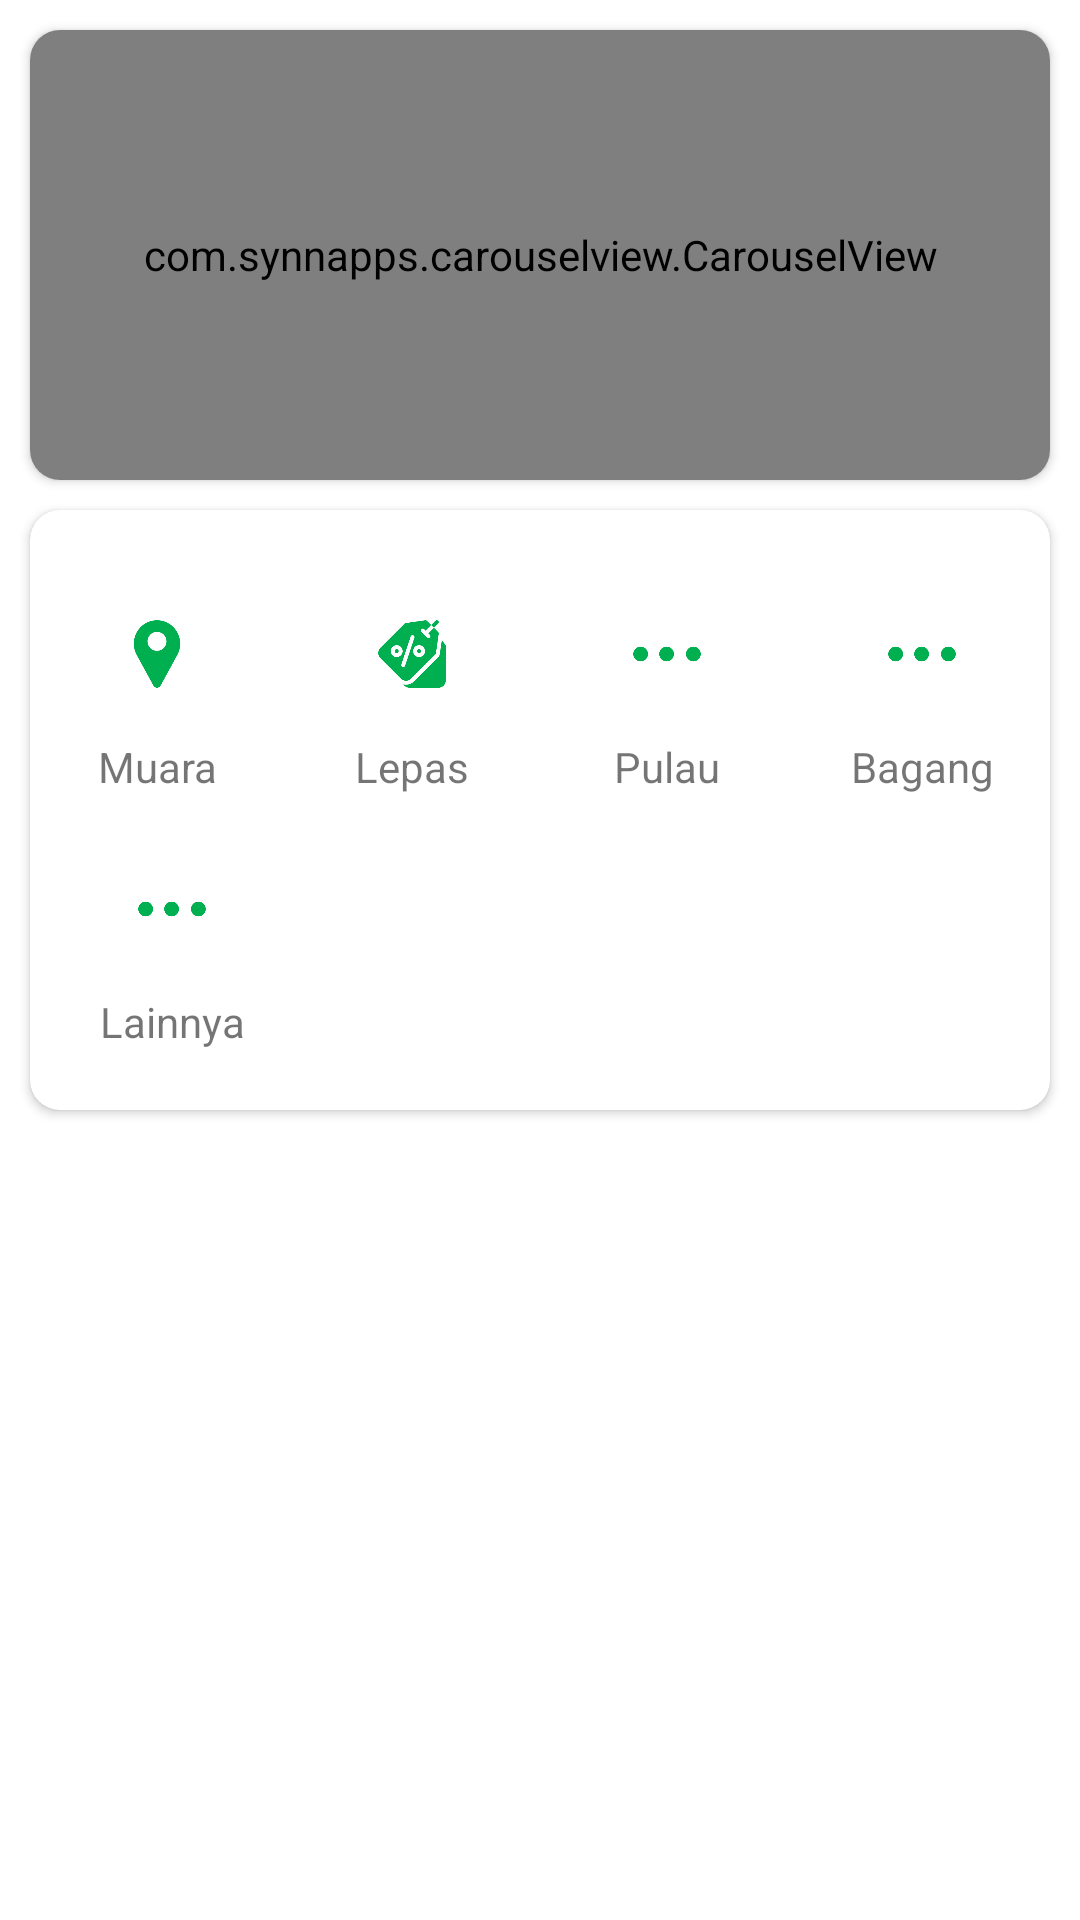

Screen size 1080×1920. Icon name, then its center in pixels as (x=x, y=y):
maps: (x=157, y=654)
opsion: (x=667, y=654), (x=922, y=654), (x=172, y=909)
